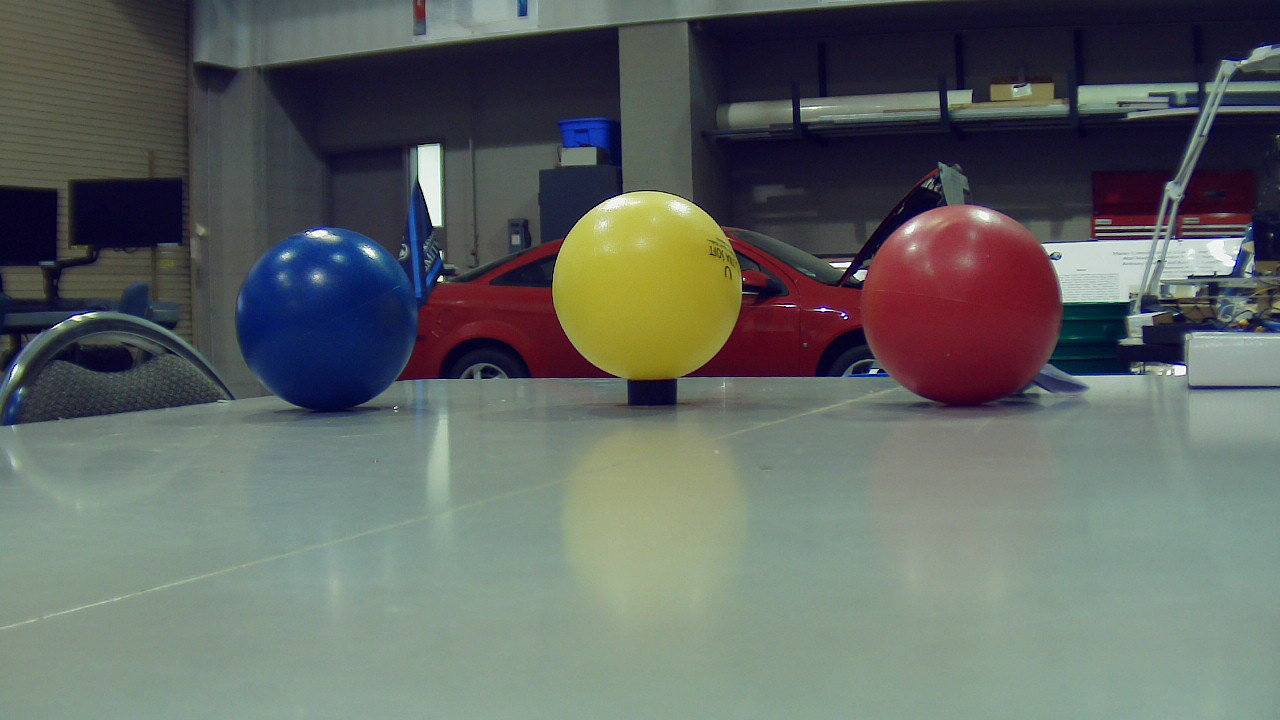blueBall: (235, 228, 425, 419)
redBall: (862, 207, 1072, 413)
yellowBall: (554, 191, 751, 388)
